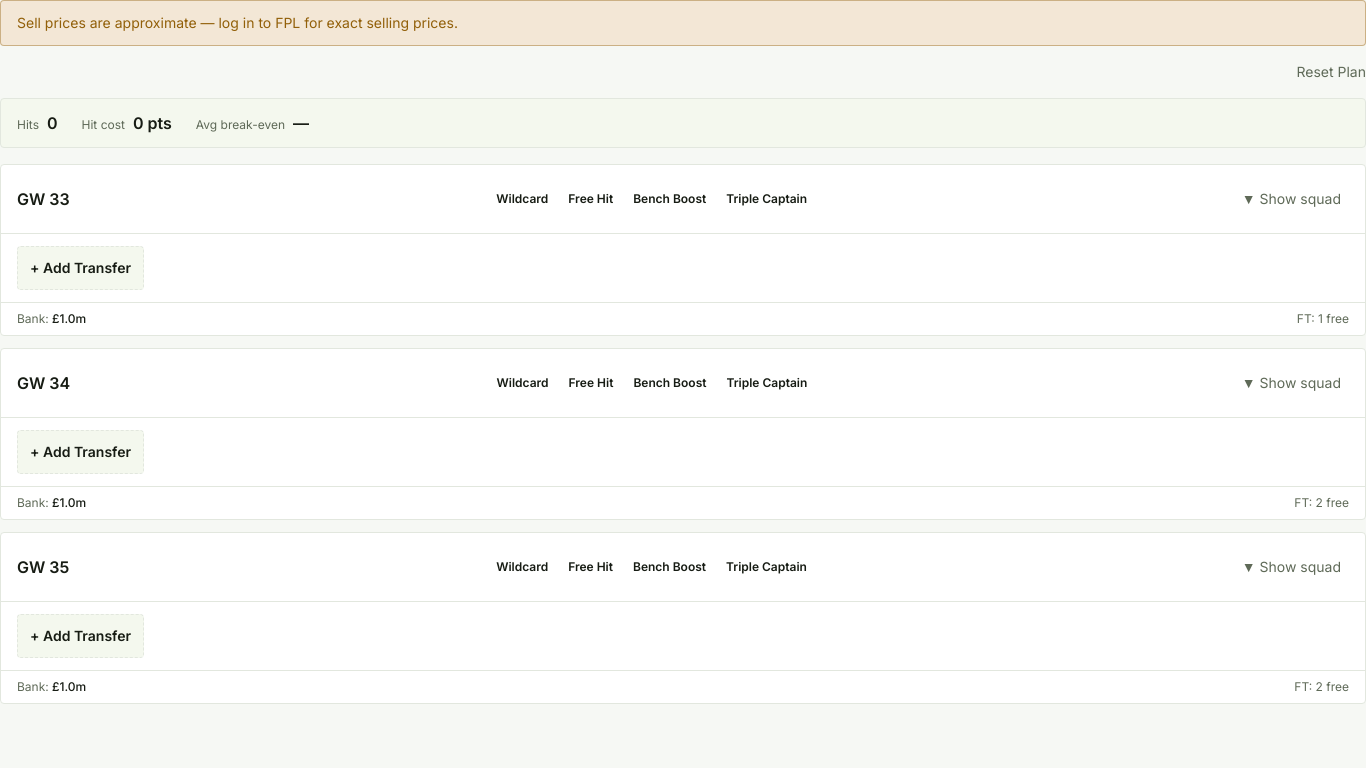
Test case: ManualPlanTab › S12: clicking + Add Transfer enters sell stage; sell-stage list contains squad player names
The image size is (1366, 768).
Click the button "+ Add Transfer" below "33": (80, 268) [17,246,144,290]
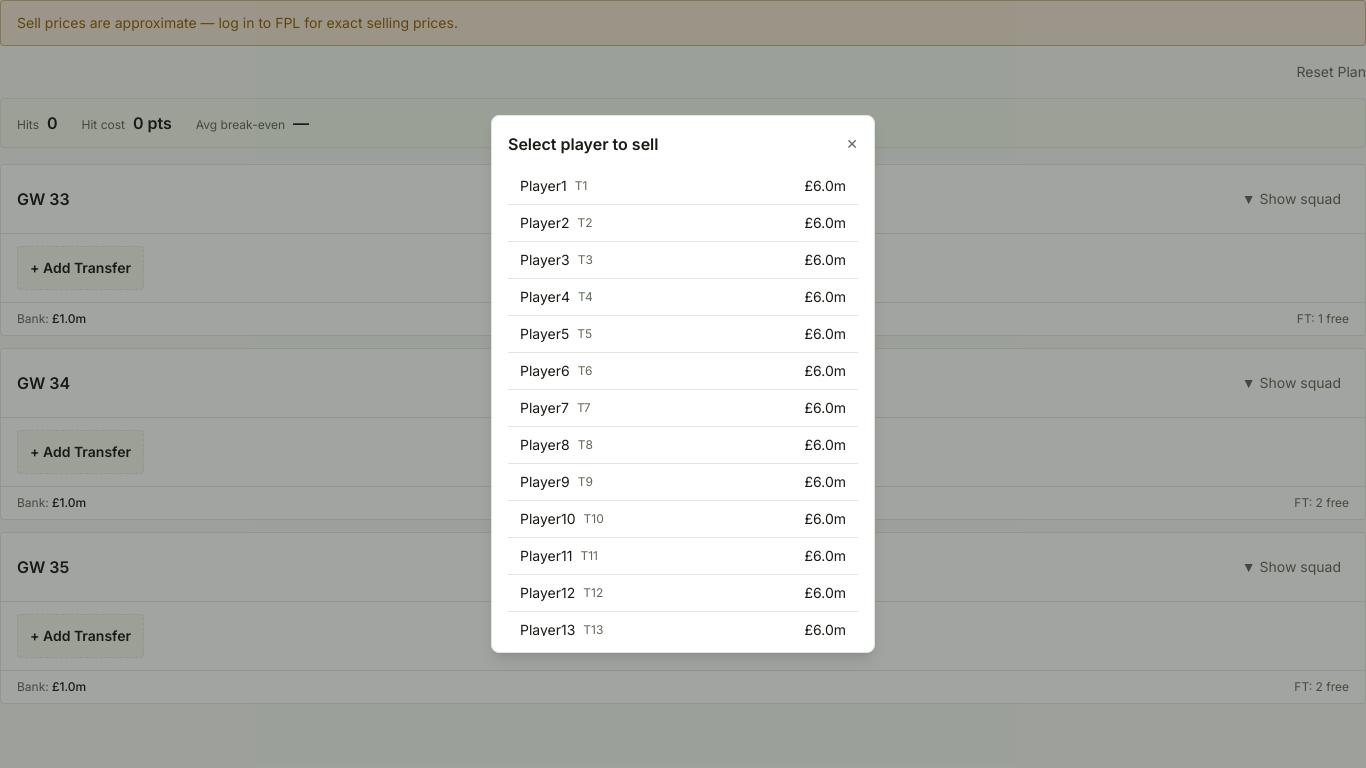
Now the text "Player1" is shown, box [520,176,567,196]
Now the text "Player3" is shown, box [520,250,570,270]
